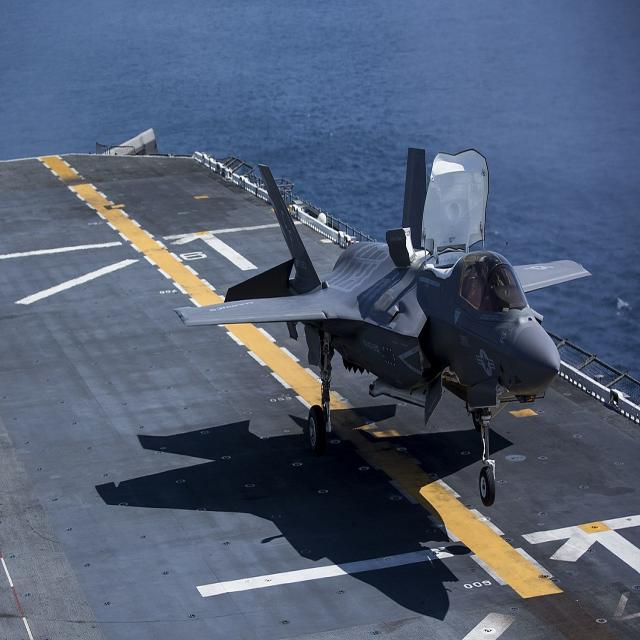MIL_Plane: (173, 146, 593, 507)
